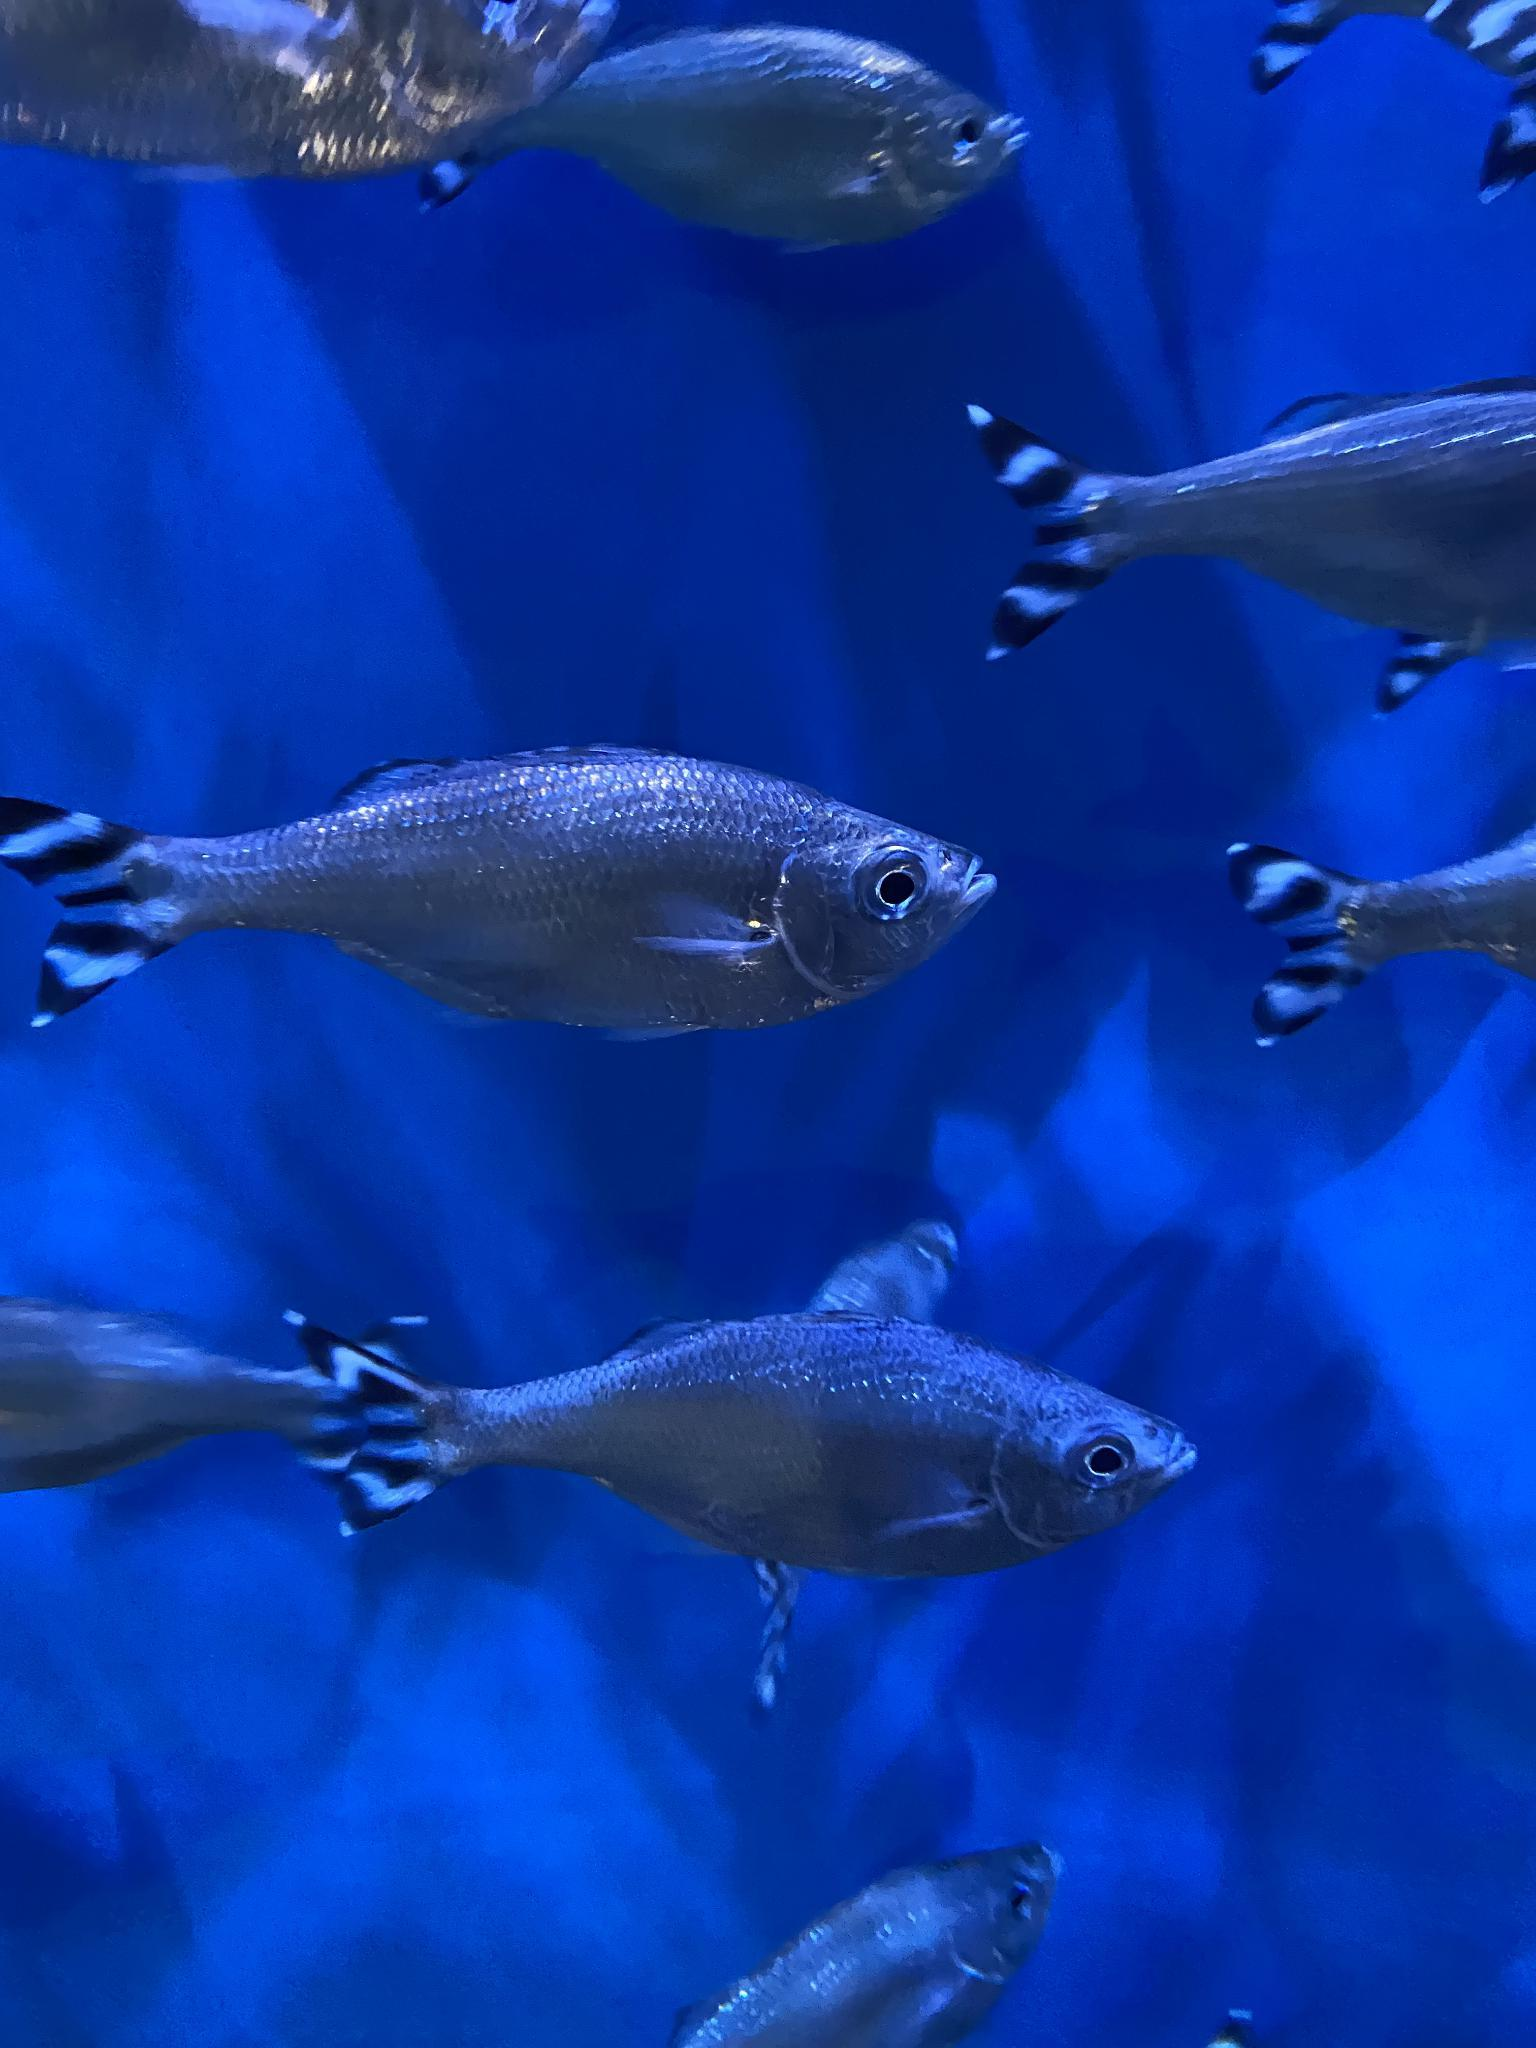fish: (0, 714, 1026, 1080), (344, 1280, 1221, 1559), (963, 356, 1534, 703), (481, 0, 1033, 258), (0, 0, 624, 218), (657, 1813, 1100, 2048), (0, 1285, 374, 1509), (1234, 814, 1534, 1006)
